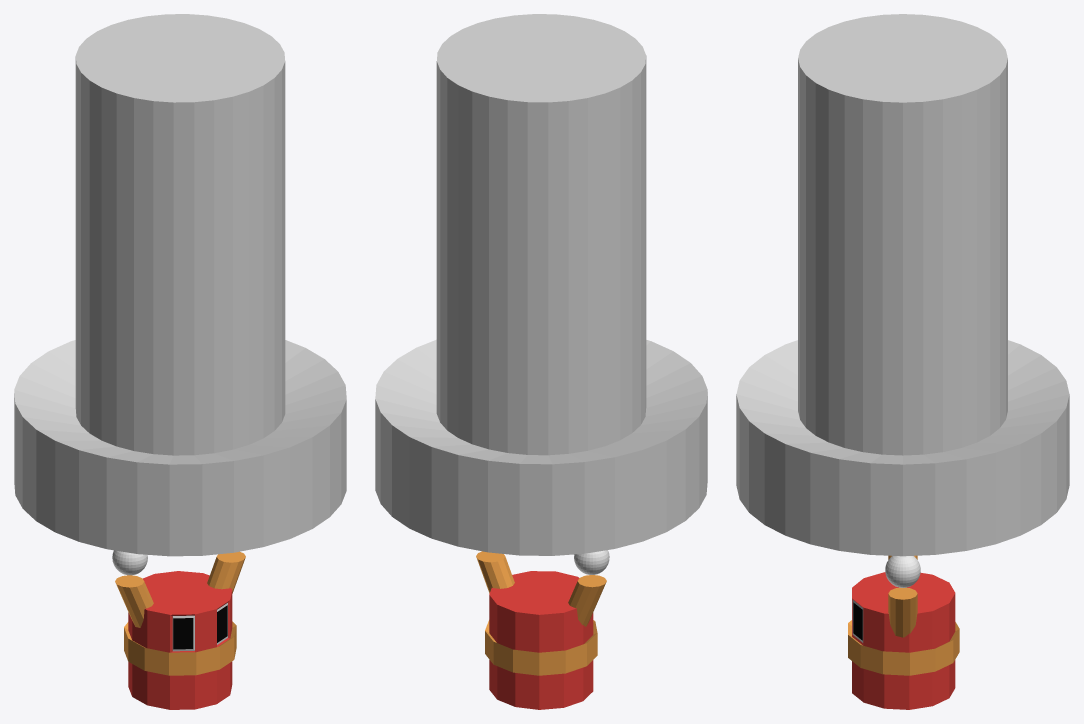
Rendered from Tortured3.fbx.
3 renders of one model, left to right at view 1: azimuth 30°, elevation 25°; view 2: azimuth 150°, elevation 25°; view 3: azimuth 270°, elevation 25°, orthographic.
Parts seen in each view (by area): view 1: Cylinder.001, Cylinder, Sphere; view 2: Cylinder.001, Cylinder, Sphere; view 3: Cylinder.001, Cylinder, Sphere.001.
Boxes of the visible parts, x1,y1,x2,y2 form: Cylinder.001: (14,14,346,556); Cylinder: (115,551,245,709); Sphere: (112,550,147,575); Cylinder.001: (375,14,707,555); Cylinder: (476,551,606,709); Sphere: (574,550,609,574); Cylinder.001: (736,14,1069,556); Cylinder: (848,555,959,709); Sphere.001: (885,556,920,587).
Size of the model in its own units: 635 by 1324 by 635.
